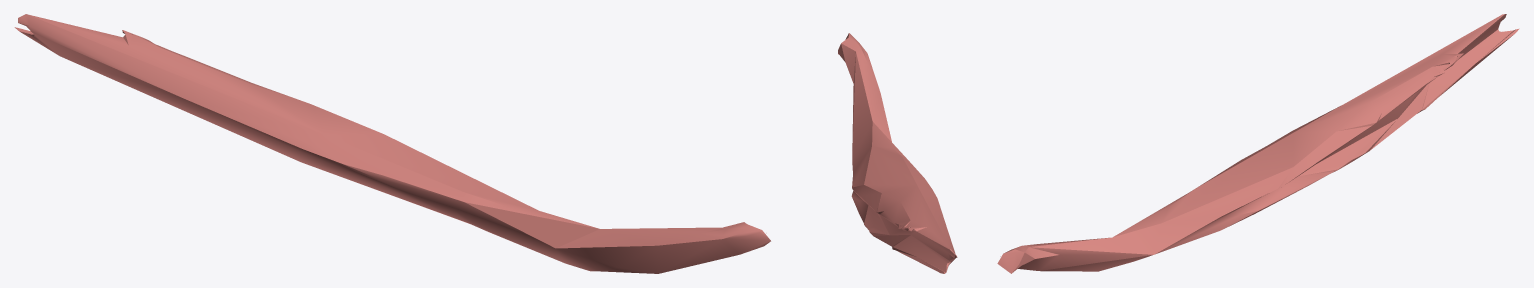
Rendered from fma37486_fj1387m.glb.
3 views of the same model, side by side, from view 1: azimuth 30°, elevation 25°; view 2: azimuth 150°, elevation 25°; view 3: azimuth 270°, elevation 25° (orthographic). The views are drawn at different scales.
Visible parts, largest first — view 1: FMA37486_FJ1387M; view 2: FMA37486_FJ1387M; view 3: FMA37486_FJ1387M.
Boxes of the visible parts, x1,y1,x2,y2 form: FMA37486_FJ1387M: (14,14,770,273); FMA37486_FJ1387M: (838,33,957,273); FMA37486_FJ1387M: (997,14,1519,273).
Size of the model in its own units: 0.0438 by 0.0142 by 0.0545.
